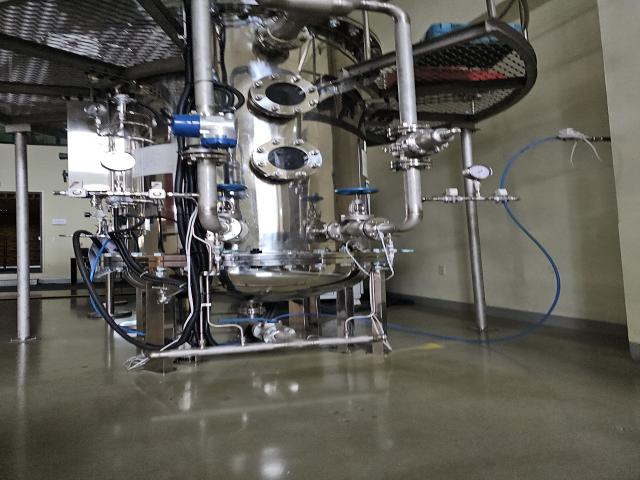Flange: (251, 138, 324, 182), (247, 74, 320, 117)
Flush Ring: (256, 15, 310, 50), (202, 216, 243, 242), (363, 216, 396, 240), (180, 149, 229, 165), (261, 325, 297, 346), (385, 124, 433, 139), (329, 220, 361, 242), (390, 158, 434, 171)
GasRegulator: (84, 93, 156, 145)
Nuts: (145, 188, 171, 200), (66, 188, 92, 198), (443, 196, 465, 202), (492, 197, 515, 202)
Piston Valve: (334, 187, 380, 220), (217, 184, 247, 218)
Pressure Gage: (98, 150, 136, 191), (464, 163, 493, 198)
